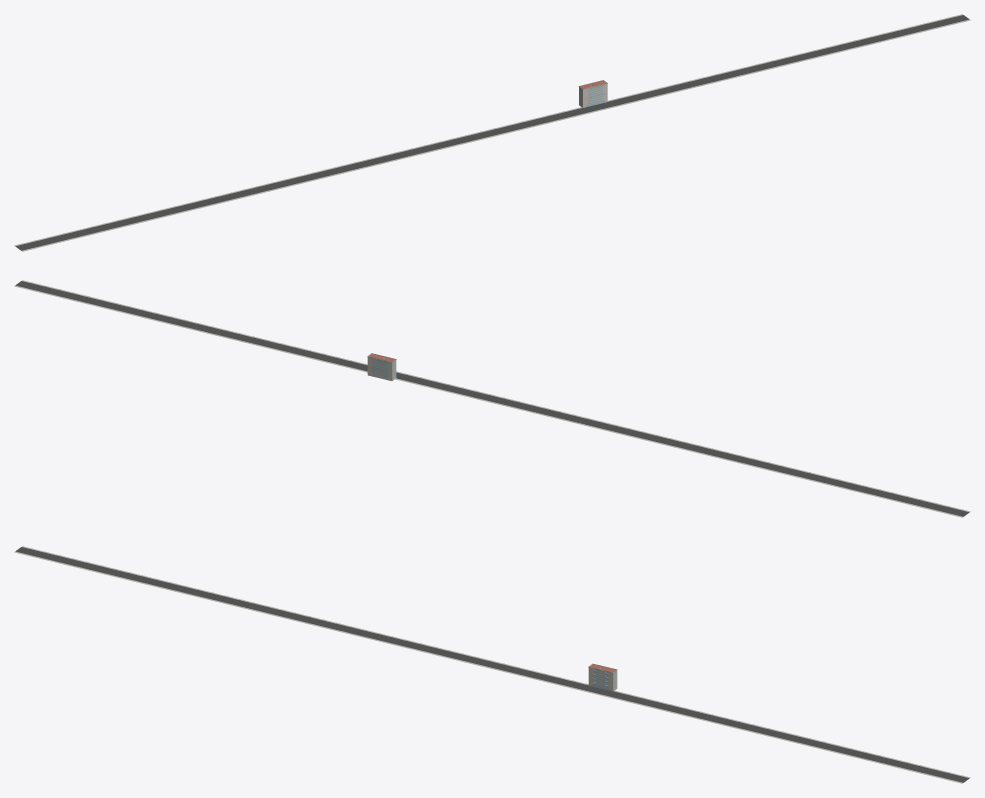
Rendered from tile-p000-m004.glb.
3 renders of one model, top to bottom at view 1: azimuth 30°, elevation 25°; view 2: azimuth 150°, elevation 25°; view 3: azimuth 330°, elevation 25°, orthographic.
Parts seen in each view (by area): view 1: road-h-0-mesh-1, road-h-0-mesh-0; view 2: road-h-0-mesh-1, road-h-0-mesh-0; view 3: road-h-0-mesh-1, road-h-0-mesh-0.
Part boxes in pixels (<box>): road-h-0-mesh-1: <box>15,15,969,250</box>; road-h-0-mesh-0: <box>14,14,970,251</box>; road-h-0-mesh-1: <box>15,281,969,516</box>; road-h-0-mesh-0: <box>14,280,970,517</box>; road-h-0-mesh-1: <box>15,547,969,782</box>; road-h-0-mesh-0: <box>14,546,970,783</box>.
Bounding box in the file's own units: 1600 × 31.6 × 33.39.
